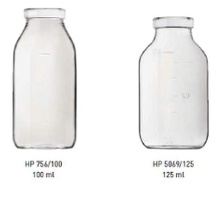bottle: (132, 9, 212, 153), (9, 5, 78, 152)
